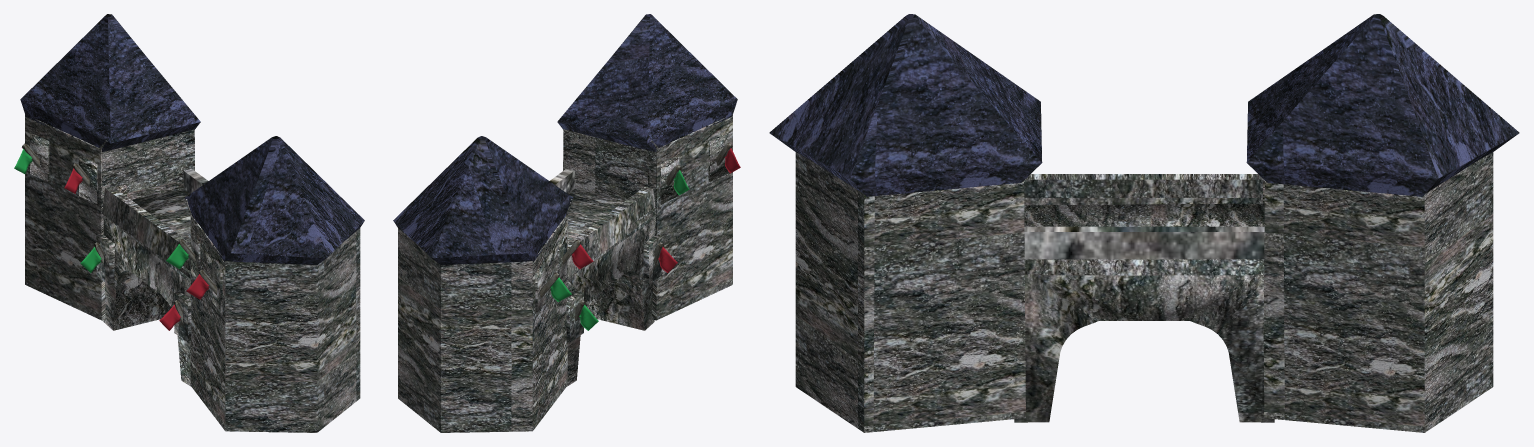
Rendered from itslit.fbx.
3 views of the same model, side by side, from view 1: azimuth 30°, elevation 25°; view 2: azimuth 150°, elevation 25°; view 3: azimuth 270°, elevation 25° (orthographic). The views are drawn at different scales.
Visible parts, largest first — view 1: Cube.011, Cube.001, Plane.004, Plane.002, Plane.001, Plane.008; view 2: Cube.011, Cube.001, Plane.001, Plane.008, Plane.004, Plane.002; view 3: Cube.011, Cube.001.
Part boxes in pixels (x1,y1,x2,y2): Cube.011: (25, 114, 360, 432); Cube.001: (20, 14, 364, 264); Plane.004: (186, 269, 217, 299); Plane.002: (166, 239, 194, 268); Plane.001: (14, 143, 39, 173); Plane.008: (64, 163, 89, 193); Cube.011: (398, 115, 732, 432); Cube.001: (393, 14, 737, 264); Plane.001: (540, 272, 571, 301); Plane.008: (562, 239, 593, 269); Plane.004: (716, 143, 740, 173); Plane.002: (666, 165, 689, 195); Cube.011: (795, 152, 1493, 432); Cube.001: (769, 14, 1519, 196).
Size of the model in its own units: 282 by 456 by 818.
